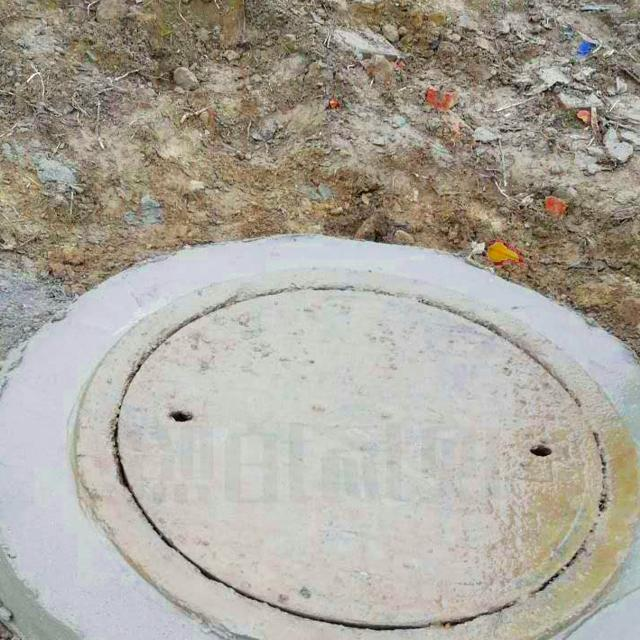good: (77, 266, 640, 640)
